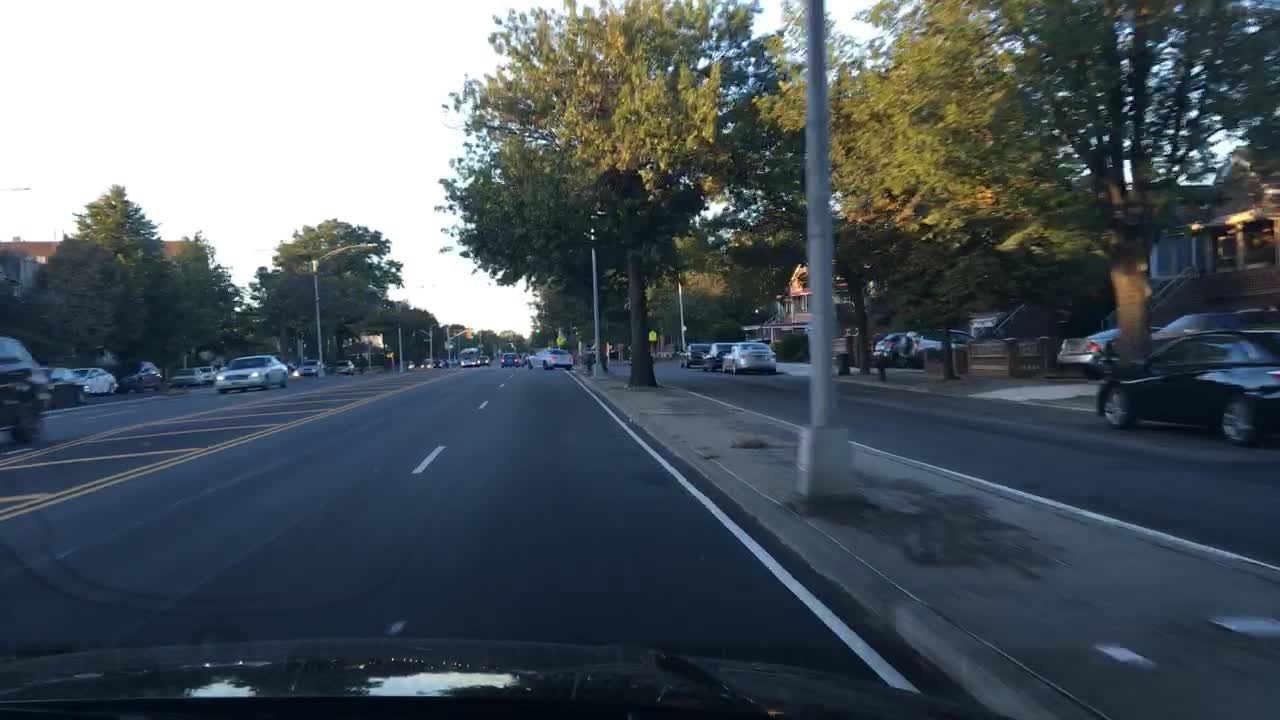bus: (459, 349, 480, 368)
car: (1093, 334, 1277, 443), (1, 333, 49, 459), (1148, 306, 1278, 332), (211, 352, 291, 393), (1053, 328, 1110, 381), (906, 328, 978, 358), (38, 364, 87, 407), (719, 340, 776, 375), (872, 331, 915, 366), (116, 362, 162, 394), (76, 365, 119, 397), (525, 345, 572, 372), (168, 367, 202, 387), (676, 342, 701, 366), (702, 342, 719, 369), (298, 361, 323, 378), (332, 357, 353, 372), (500, 351, 518, 368), (197, 365, 214, 382), (517, 352, 534, 368), (319, 360, 336, 375), (287, 361, 301, 379), (431, 355, 446, 371), (581, 349, 596, 365), (443, 352, 457, 366), (420, 357, 433, 369), (480, 354, 491, 366), (607, 348, 616, 360)
